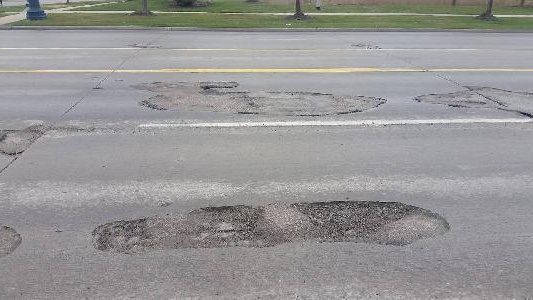pothole: (288, 199, 415, 236), (190, 201, 265, 245), (92, 215, 151, 253), (198, 82, 216, 94)
